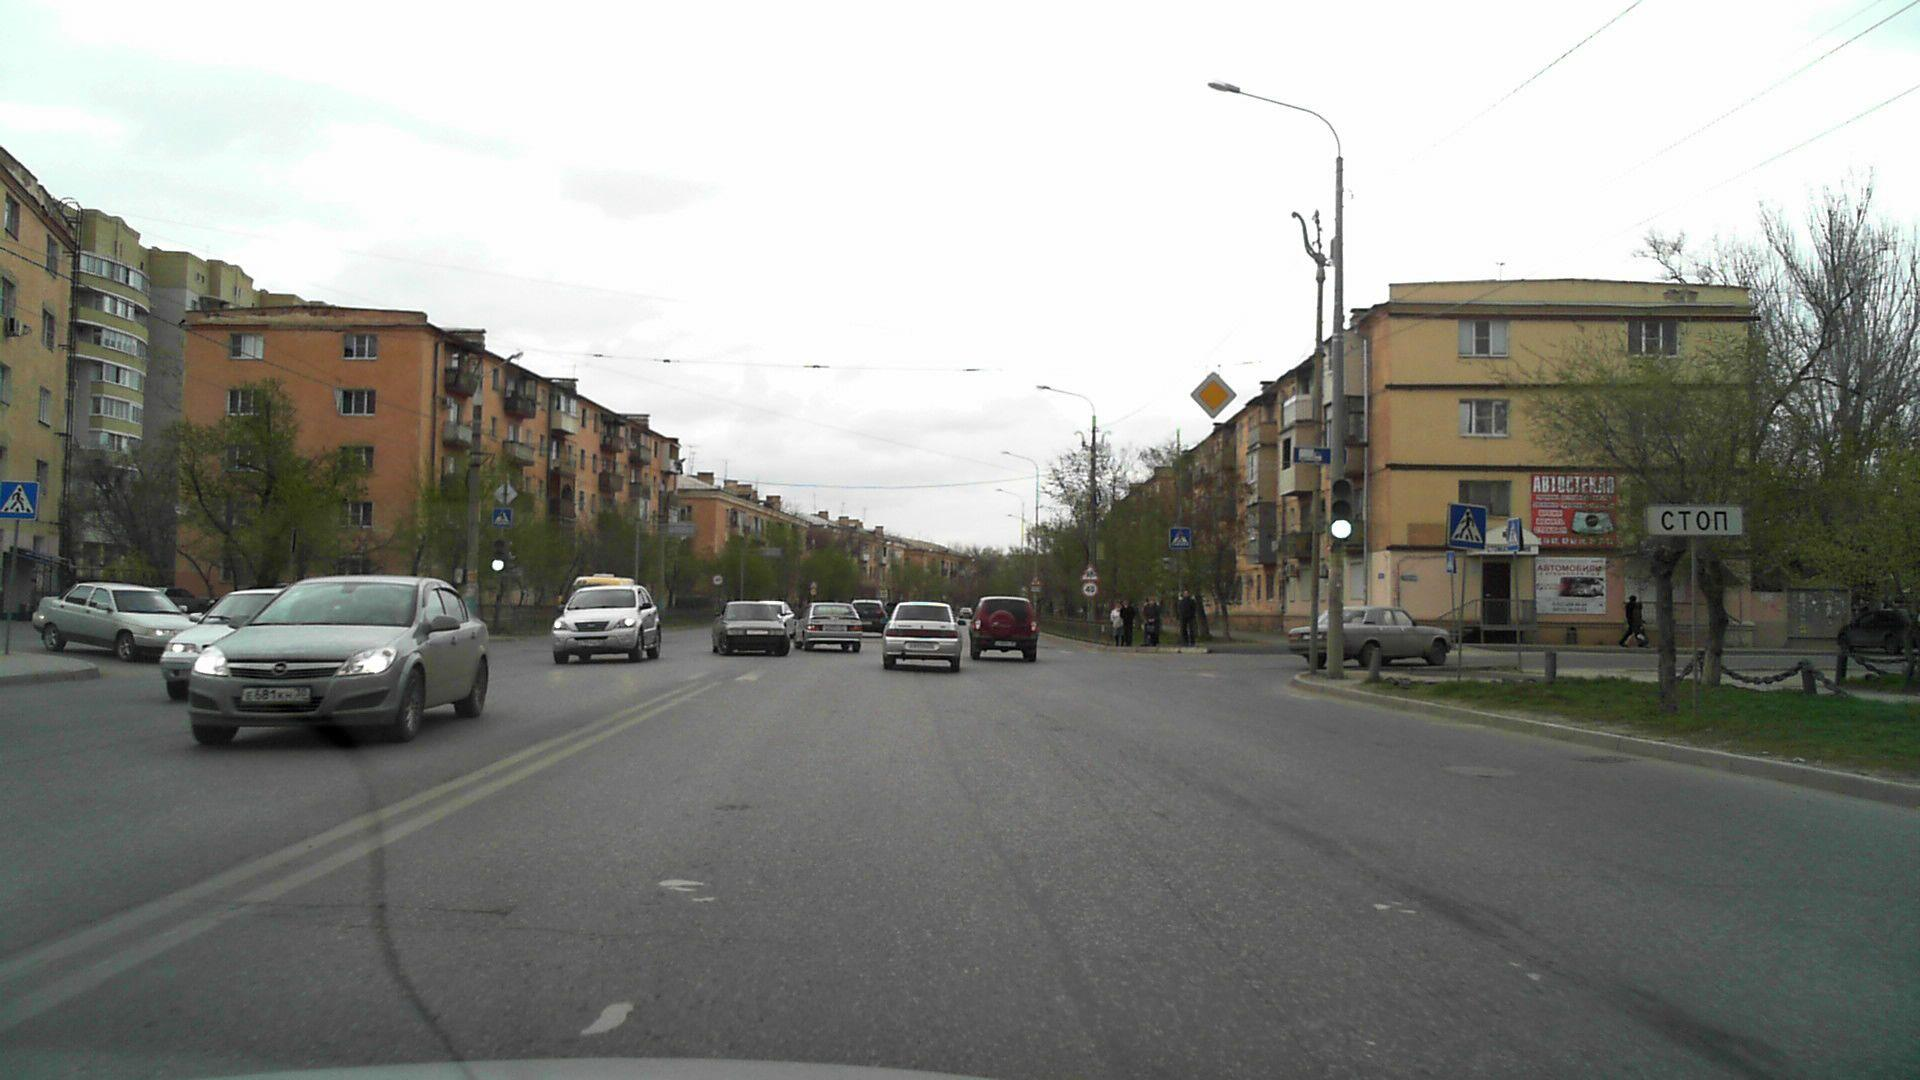1_23: (1080, 563, 1101, 582)
2_1: (1191, 369, 1234, 418)
3_24: (1083, 583, 1100, 596), (712, 572, 724, 587)
5_19_1: (1449, 501, 1490, 549), (1170, 526, 1191, 550), (1506, 521, 1522, 551)
5_19_2: (493, 508, 512, 529), (1441, 550, 1456, 574)
6_15_2: (1295, 446, 1350, 467)
6_16: (1647, 504, 1745, 535)
